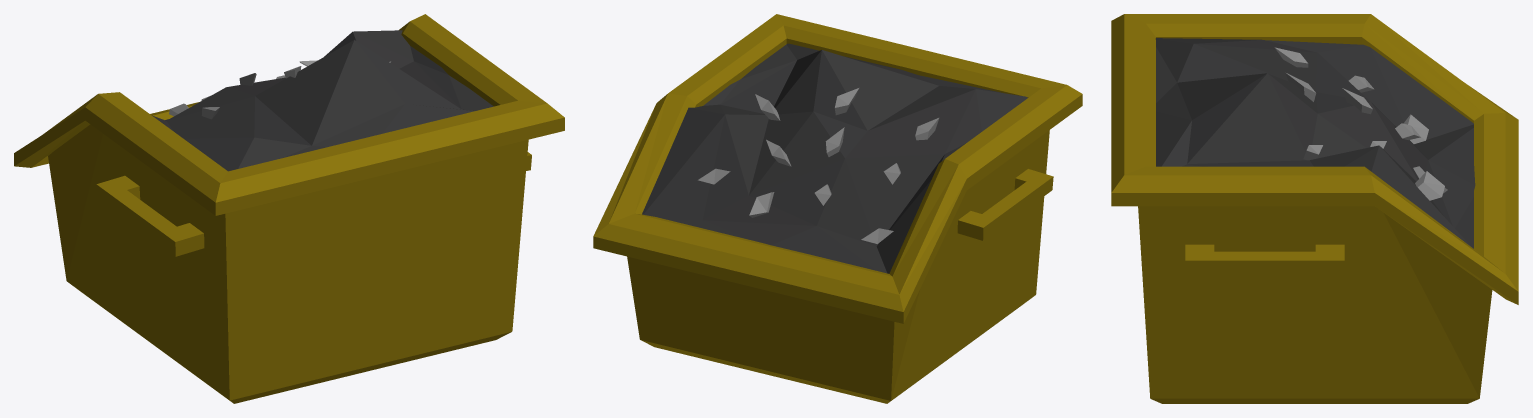
Rendered from Trash_bin3_3.fbx.
3 renders of one model, left to right at view 1: azimuth 30°, elevation 25°; view 2: azimuth 150°, elevation 25°; view 3: azimuth 270°, elevation 25°, orthographic. The views are drawn at different scales.
Visible parts, largest first — view 1: Trash_bin3_3, trash.004; view 2: Trash_bin3_3, trash.004; view 3: Trash_bin3_3, trash.004.
Part boxes in pixels (<box>): Trash_bin3_3: <box>14,14,564,403</box>; trash.004: <box>152,30,493,171</box>; Trash_bin3_3: <box>593,14,1082,403</box>; trash.004: <box>642,43,1027,273</box>; Trash_bin3_3: <box>1111,14,1518,403</box>; trash.004: <box>1155,38,1475,248</box>.
Size of the model in its own units: 90.93 by 69.16 by 88.99.
